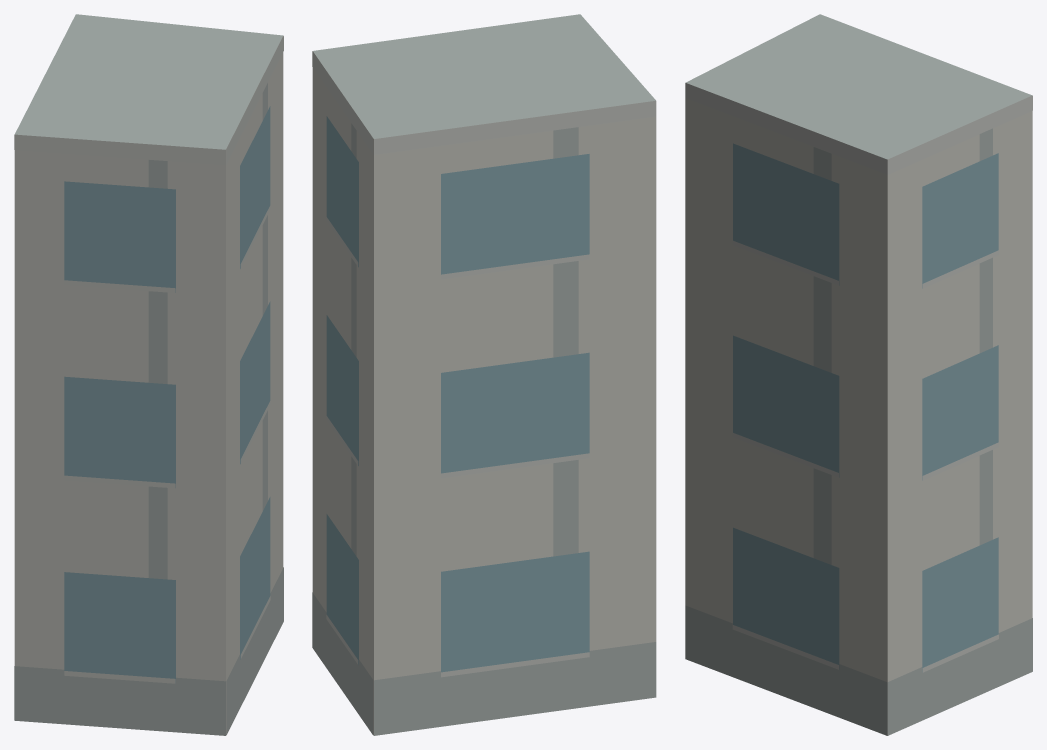
Rendered from survey-upis-33008980.glb.
The picture shows the model from 3 angles, left to right: view 1: azimuth 30°, elevation 25°; view 2: azimuth 150°, elevation 25°; view 3: azimuth 270°, elevation 25°; orthographic projection. The views are drawn at different scales.
Parts seen in each view (by area): view 1: survey-upis-33008980.tmp; view 2: survey-upis-33008980.tmp; view 3: survey-upis-33008980.tmp.
Part boxes in pixels (x1=…): survey-upis-33008980.tmp: x1=14, y1=14, x2=283, y2=735; survey-upis-33008980.tmp: x1=312, y1=14, x2=656, y2=735; survey-upis-33008980.tmp: x1=685, y1=14, x2=1032, y2=735.
Size of the model in its own units: 4.96 by 9.15 by 5.
